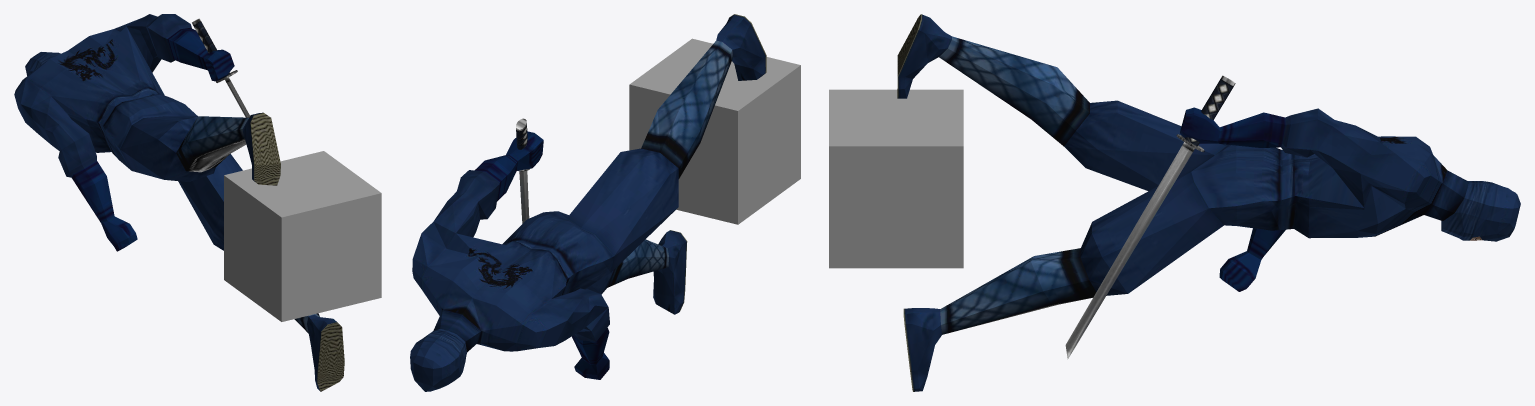
The model's file is ninja.obj.
3 views of the same model, side by side, from view 1: azimuth 30°, elevation 25°; view 2: azimuth 150°, elevation 25°; view 3: azimuth 270°, elevation 25° (orthographic). The views are drawn at different scales.
Parts seen in each view (by area): view 1: ninja, Cube, blade; view 2: ninja, Cube, blade; view 3: ninja, Cube, blade.
Boxes of the visible parts, x1,y1,x2,y2 form: ninja: [14, 14, 344, 391]; Cube: [224, 151, 381, 321]; blade: [192, 18, 249, 117]; ninja: [410, 14, 766, 391]; Cube: [629, 38, 800, 224]; blade: [516, 118, 529, 223]; ninja: [897, 14, 1520, 391]; Cube: [829, 89, 963, 268]; blade: [1065, 75, 1235, 359].
Size of the model in its own units: 3.48 by 5.54 by 10.28.
Materials: 2 (1 with a texture image).
